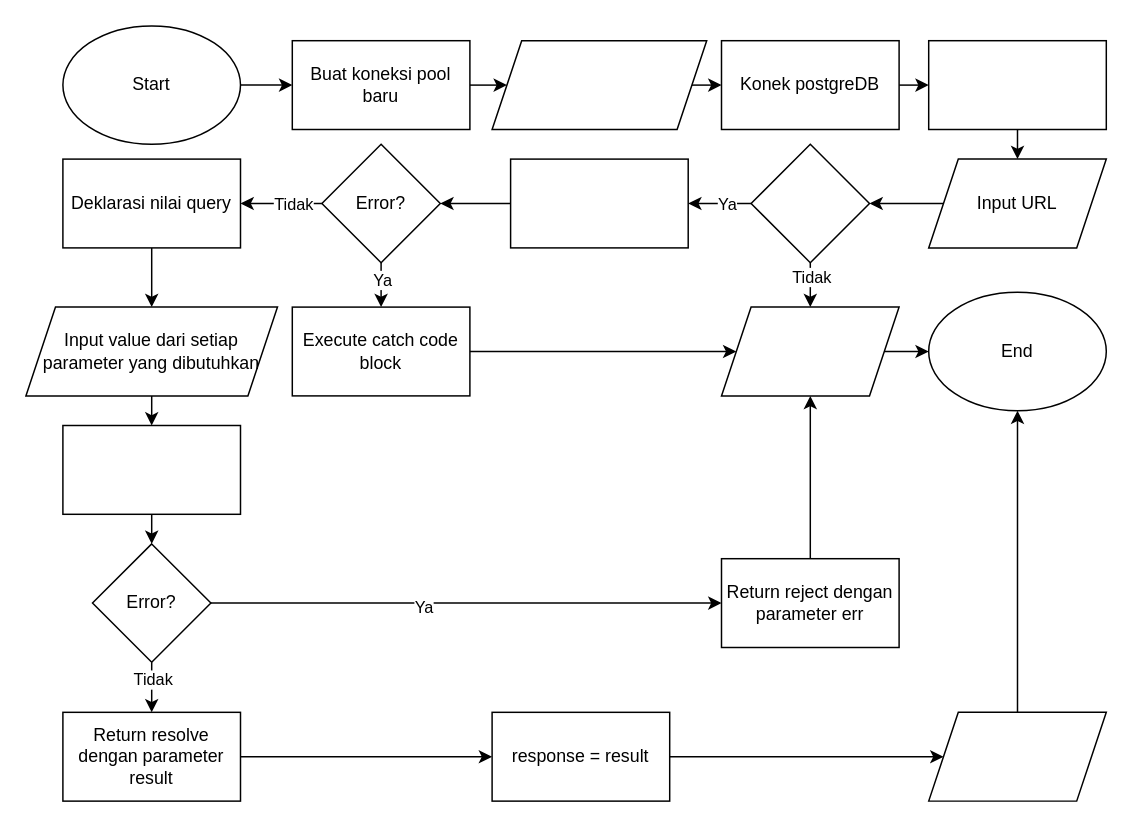
This 1132x827 diagram has some shape labels left out. The centre of each missing label's shape, as x and y in pixels:
"cetak error dan response error" belongs at (809,351).
"Cetak rows dari response" belongs at (1016,756).
"Eksekusi query" belongs at (150,469).
"Execute try code block dari fungsi create" belongs at (598,203).
"Input parameter dari database" belongs at (599,84).
"Parsing json dan urlencoded" belongs at (1016,84).
"URL found?" belongs at (810,203).
